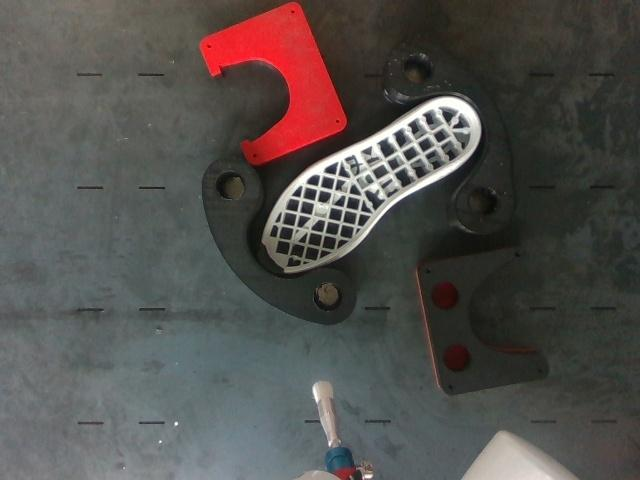shoes: (259, 98, 480, 272)
